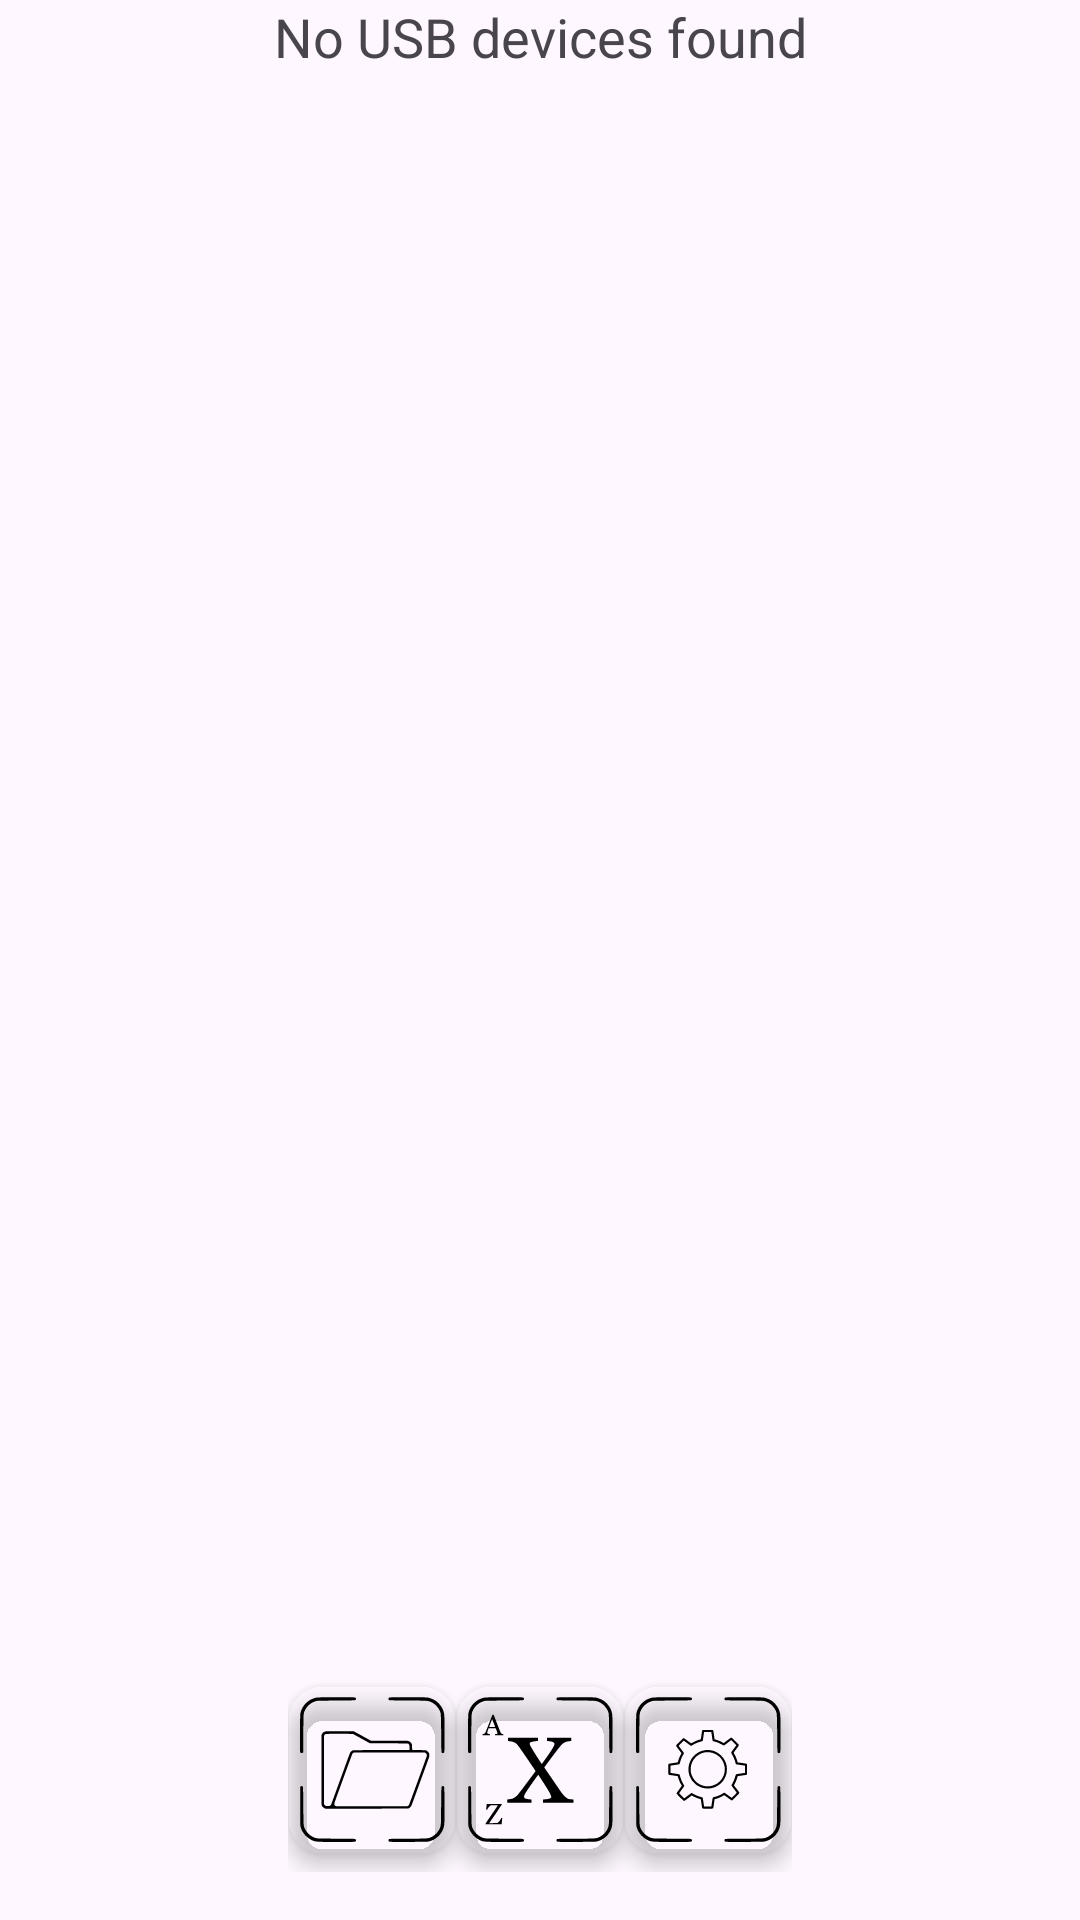

Icon bounding boxes for this 1080 × 1920 phone screenshot, format (x1, y1, x2, y2):
Open file: (288, 1697, 456, 1854)
Settings: (624, 1697, 792, 1854)
